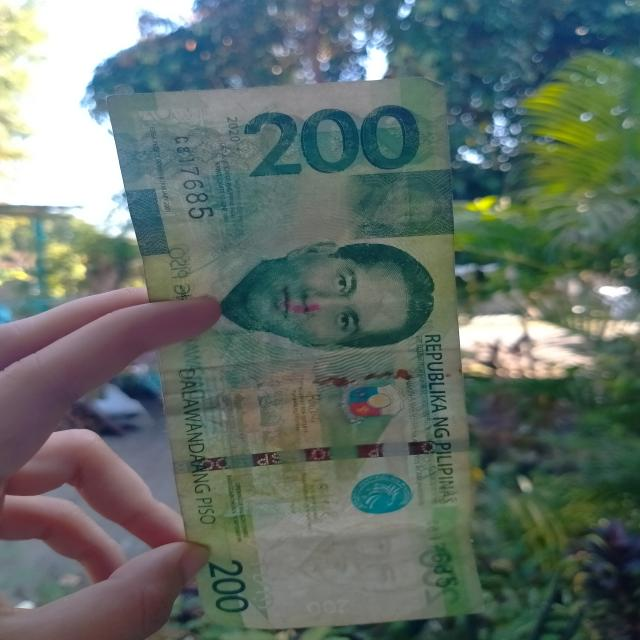concealed_value: (348, 170, 457, 243)
security_thread: (172, 438, 470, 471)
see_through_mark: (238, 525, 285, 611)
serial_number: (174, 126, 212, 217)
value: (239, 102, 422, 184)
value_watermark: (300, 595, 354, 617)
watermark: (273, 509, 438, 604)
